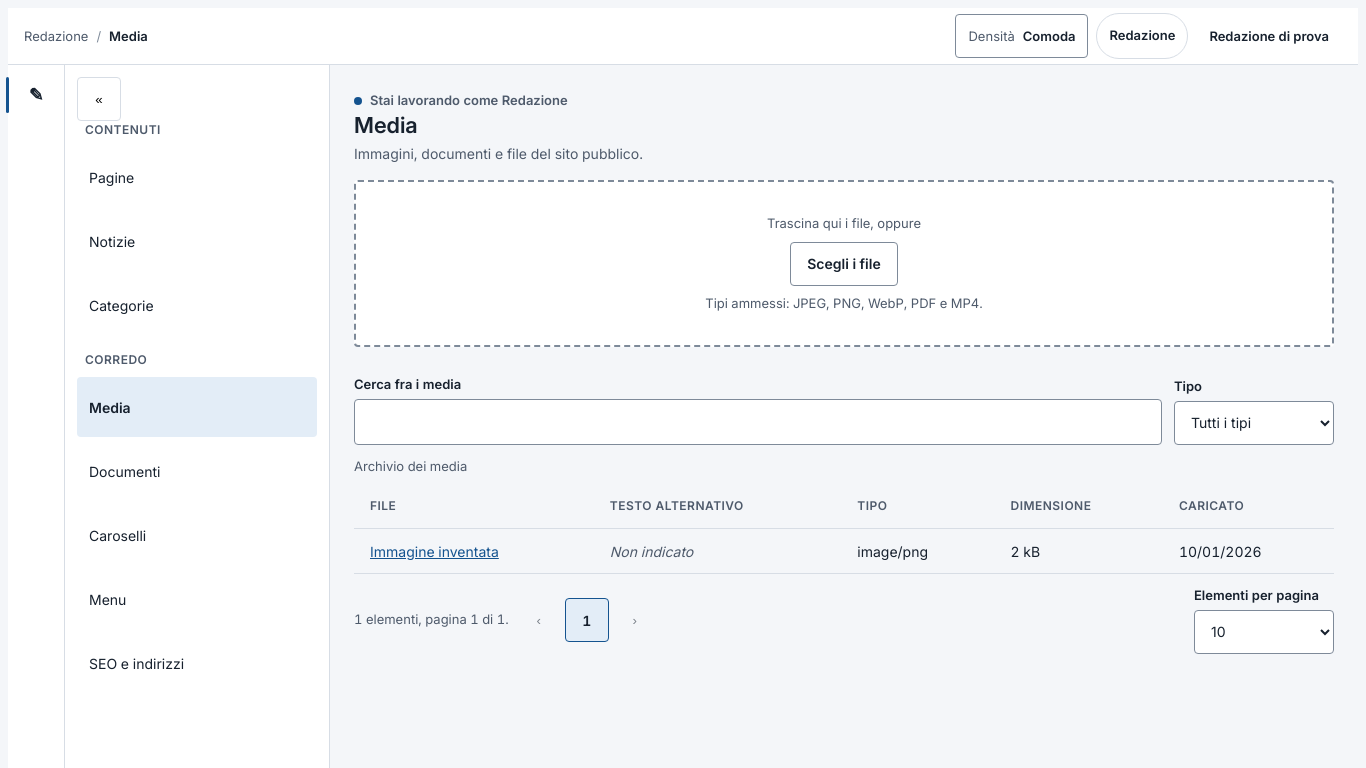
Test case: archivio dei media › l’aiuto del testo alternativo concorda col soggetto: «Le pagine lo usano…»
This screenshot has width=1366, height=768.
Click the button "Immagine inventata".
click(434, 551)  # box 370,541 -> 499,562
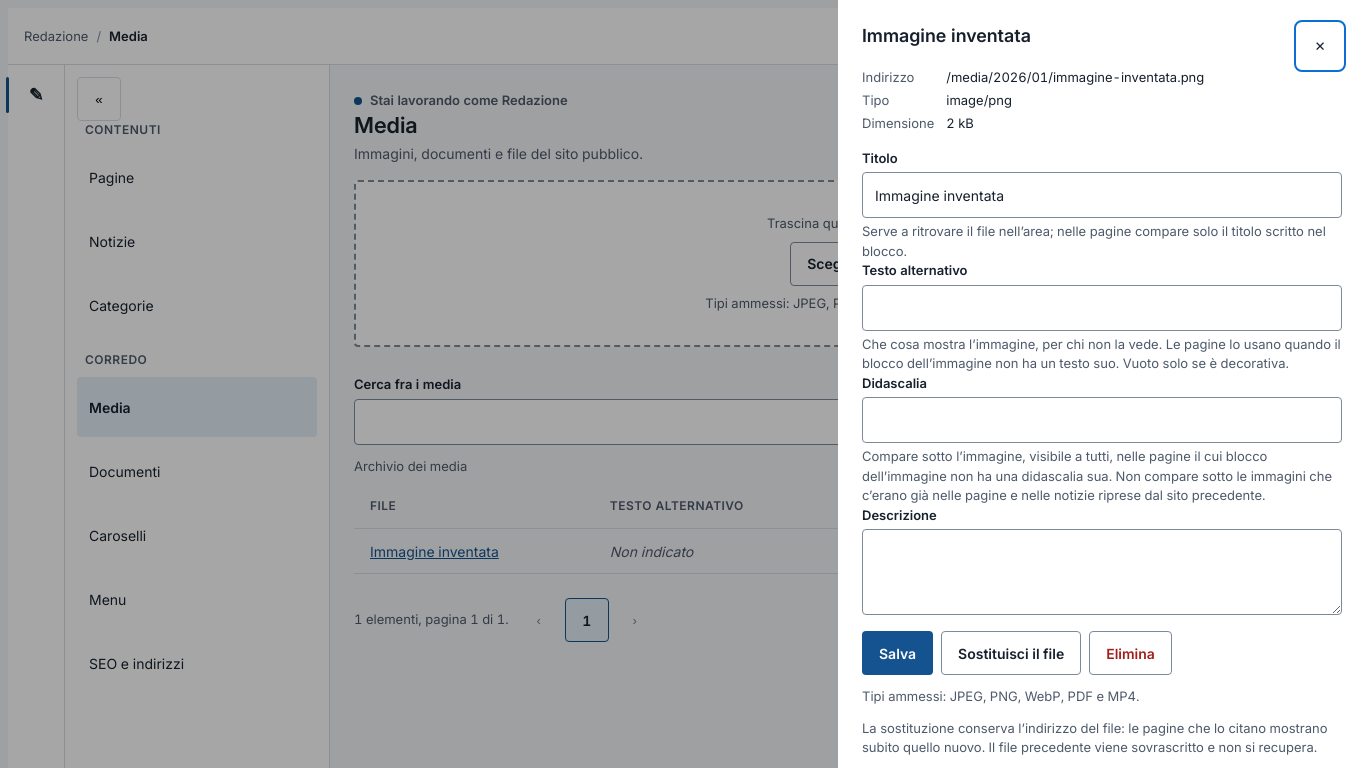
Expected: the text "Le pagine lo usano quando il blocco dell’immagine non ha un testo suo" is shown, 862,336 -> 1341,371
